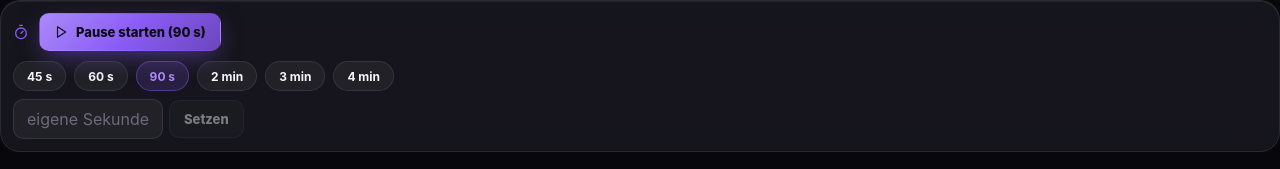
RestTimer — adjustable pauses › accepts a custom length
This screenshot has width=1280, height=169.
Type "75" into the field named "Eigene Pausenlänge".
click(88, 119); type("75")  # box [13,99,163,139]
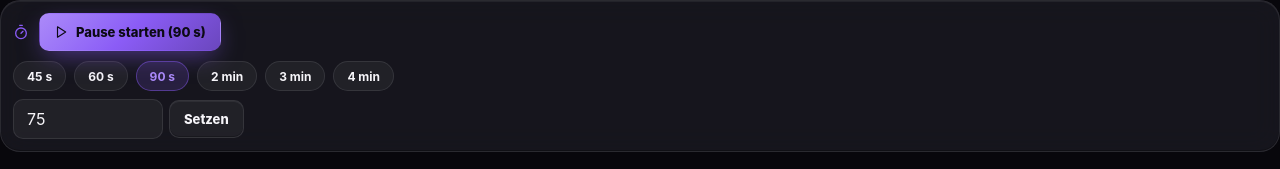
Click the button "Setzen".
click(206, 119)  # box [169,100,244,138]
Wait 1000 ms
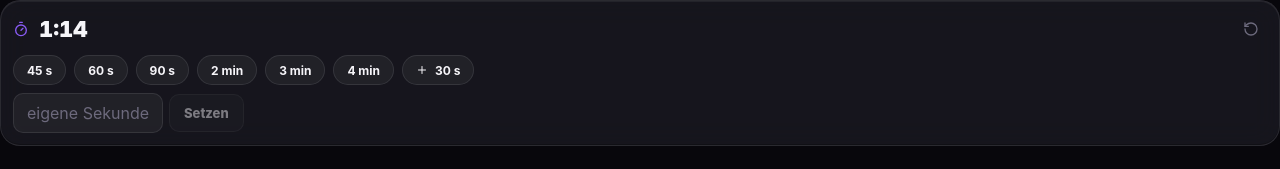
Result: the text "1:14" is shown at [39,16,88,42]
